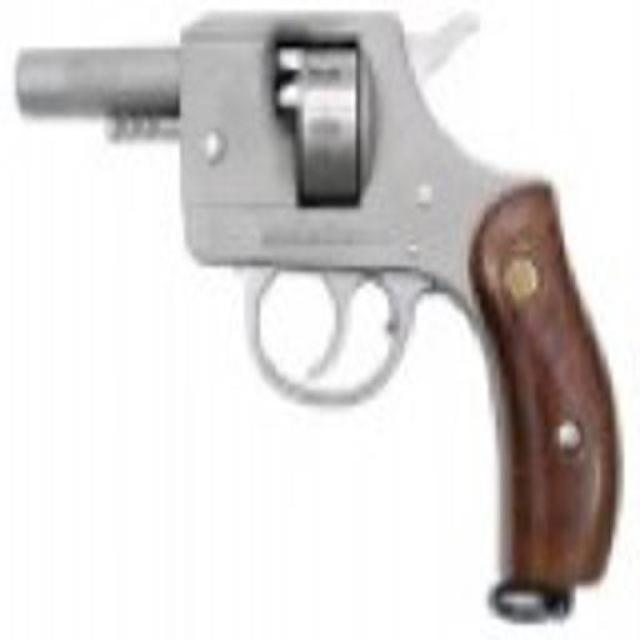pistol: (15, 5, 627, 602)
